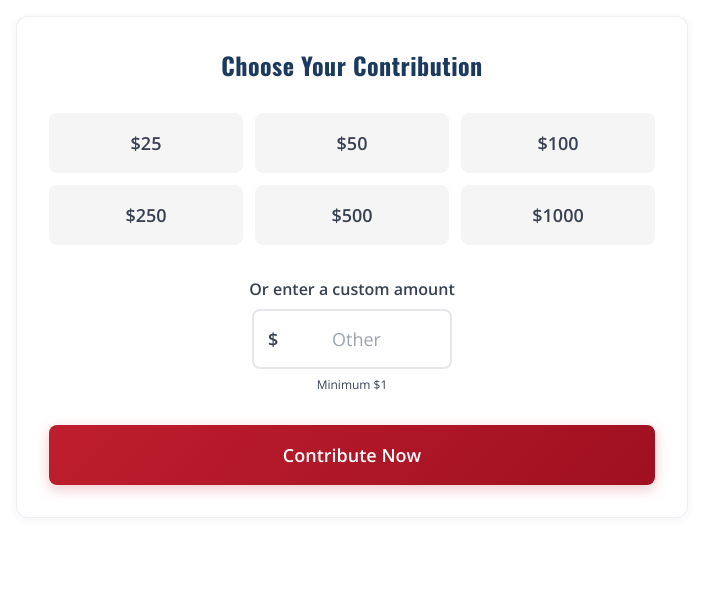
DonateDynamic › UI Behavior › shows error when no amount selected
The image size is (705, 615).
Click the button "Contribute Now" at (352, 455), box [49, 425, 655, 485]
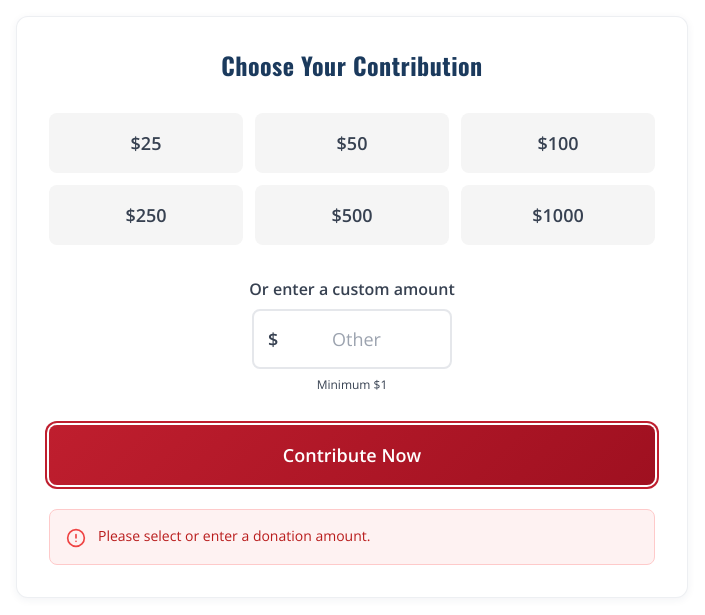
Expected: the message shows "Please select or enter a donation amount", [98, 526, 370, 545]
